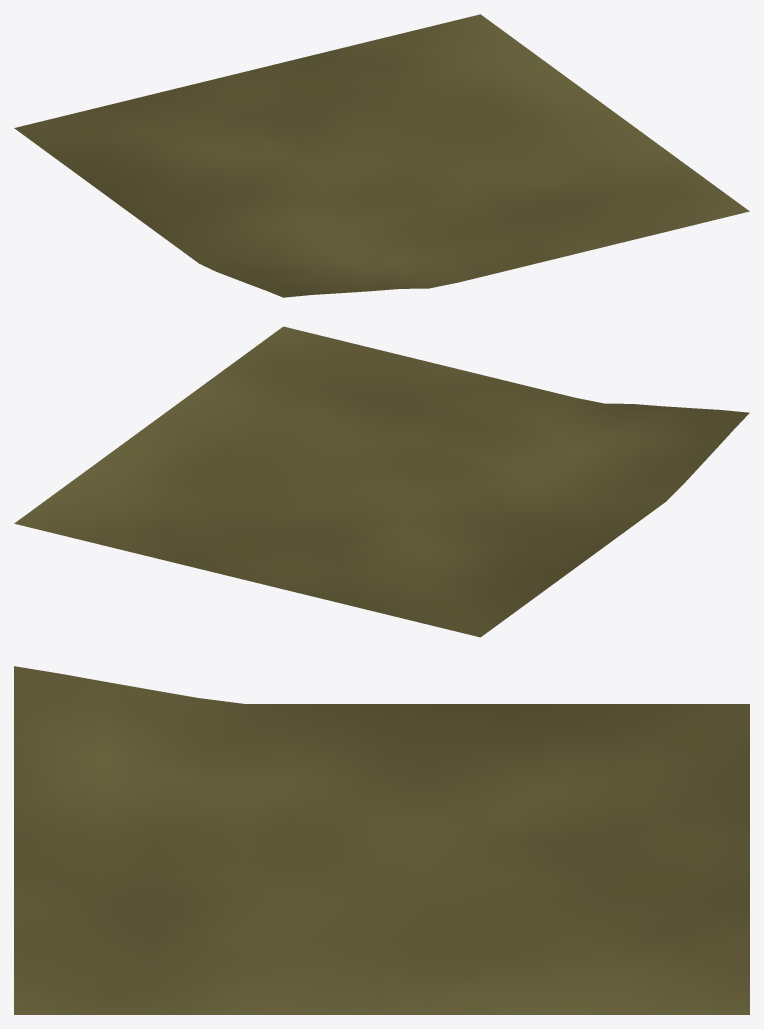
The model's file is terrain_lod1_2_-2.obj.
3 views of the same model, one above another, from view 1: azimuth 30°, elevation 25°; view 2: azimuth 150°, elevation 25°; view 3: azimuth 270°, elevation 25° (orthographic). The views are drawn at different scales.
Parts seen in each view (by area): view 1: terrain_lod1_2_-2; view 2: terrain_lod1_2_-2; view 3: terrain_lod1_2_-2.
Part boxes in pixels (x1,y1,x2,y2): terrain_lod1_2_-2: (14,14,749,297); terrain_lod1_2_-2: (14,326,749,637); terrain_lod1_2_-2: (14,666,749,1014).
Size of the model in its own units: 64 by 3.62 by 64.
